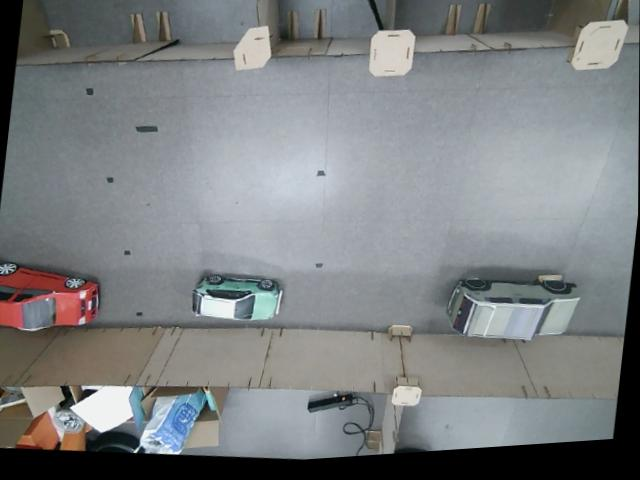car: (442, 267, 582, 353), (0, 255, 104, 340), (190, 268, 284, 329)
